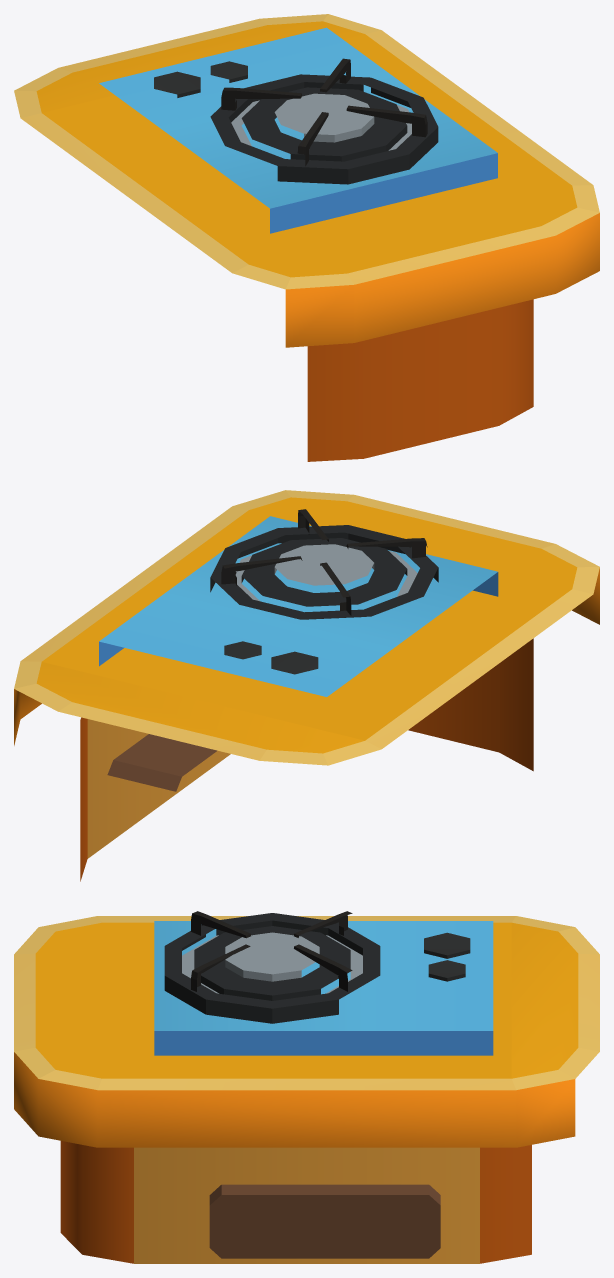
The model's file is 2_1_1_Facility_Model.fbx.
3 renders of one model, top to bottom at view 1: azimuth 30°, elevation 25°; view 2: azimuth 150°, elevation 25°; view 3: azimuth 270°, elevation 25°, orthographic.
Parts seen in each view (by area): view 1: 2_1_1_Facility_Model; view 2: 2_1_1_Facility_Model; view 3: 2_1_1_Facility_Model.
Part boxes in pixels (x1,y1,x2,y2): 2_1_1_Facility_Model: [14, 14, 599, 461]; 2_1_1_Facility_Model: [14, 490, 599, 881]; 2_1_1_Facility_Model: [14, 911, 599, 1263].
Bounding box in the file's own units: 352 × 245 × 501.
